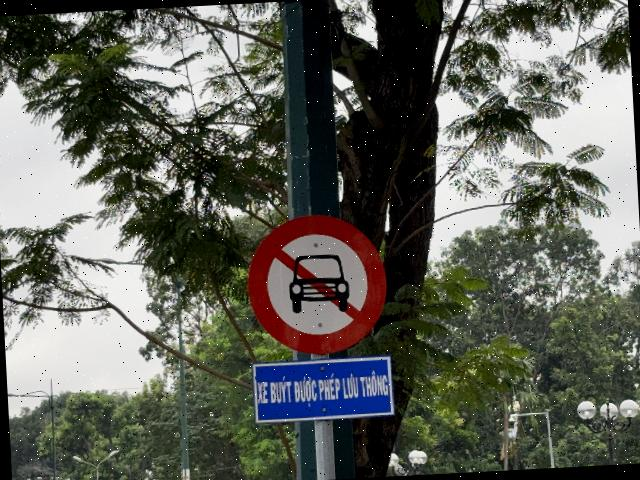cam-o-to: (245, 211, 390, 359)
